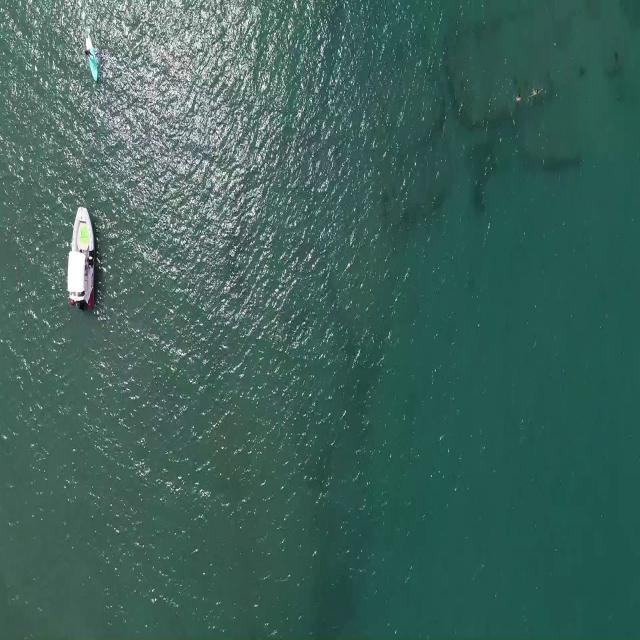boat: (66, 195, 98, 315)
person: (530, 87, 546, 99), (85, 46, 96, 60), (514, 92, 522, 102)
surfboard: (84, 36, 98, 84)
